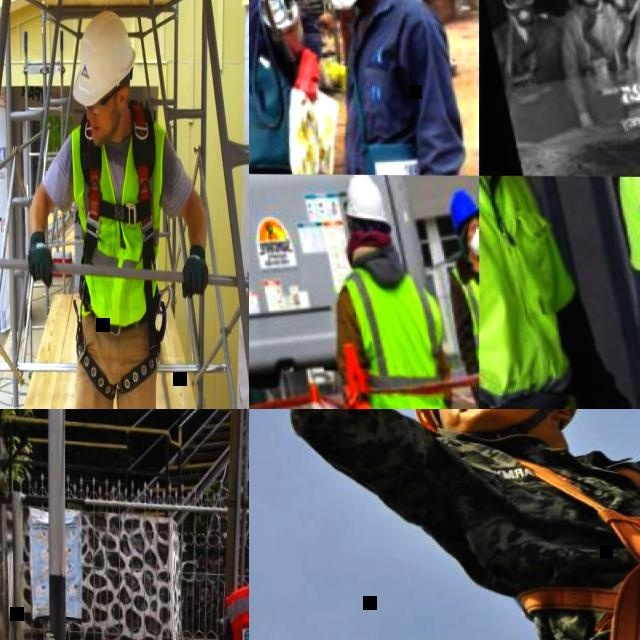Hardhat: (344, 171, 392, 229), (450, 190, 478, 231)
Mask: (511, 0, 535, 23), (321, 0, 362, 12), (468, 230, 478, 258), (611, 0, 633, 9), (578, 0, 602, 5)
NO-Hardhat: (71, 9, 137, 109)
NO-Mask: (442, 409, 565, 420), (91, 112, 113, 143)
NO-Safety Vest: (479, 439, 640, 640), (71, 122, 165, 321), (345, 0, 439, 170), (494, 15, 563, 137), (249, 0, 290, 174), (571, 1, 625, 103), (619, 0, 640, 130)
Person: (272, 409, 640, 640), (28, 10, 210, 409), (482, 173, 640, 409), (337, 172, 460, 409), (320, 0, 467, 172), (249, 0, 326, 174), (173, 464, 249, 640), (493, 0, 569, 145), (446, 188, 479, 404)
Safety Vest: (478, 174, 578, 409), (337, 266, 457, 409)
